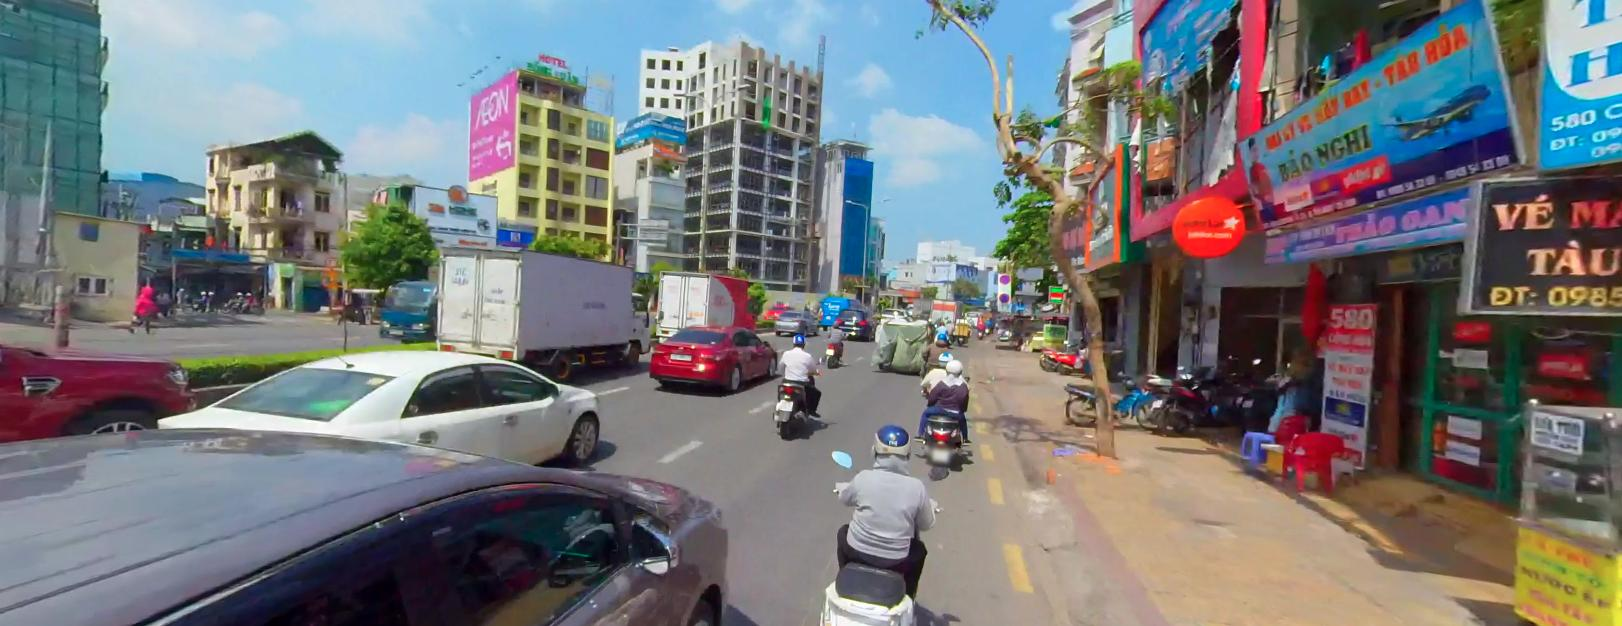Cam dung va do: (999, 272, 1010, 284), (999, 291, 1009, 301)
